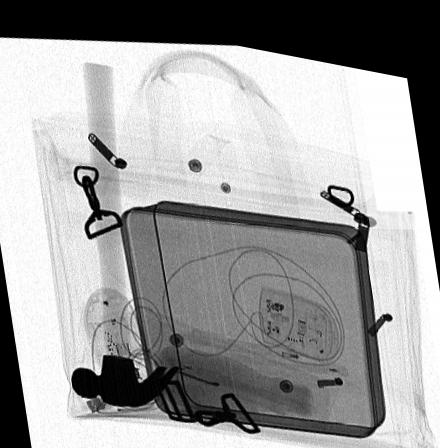Hammer: (71, 57, 182, 401)
